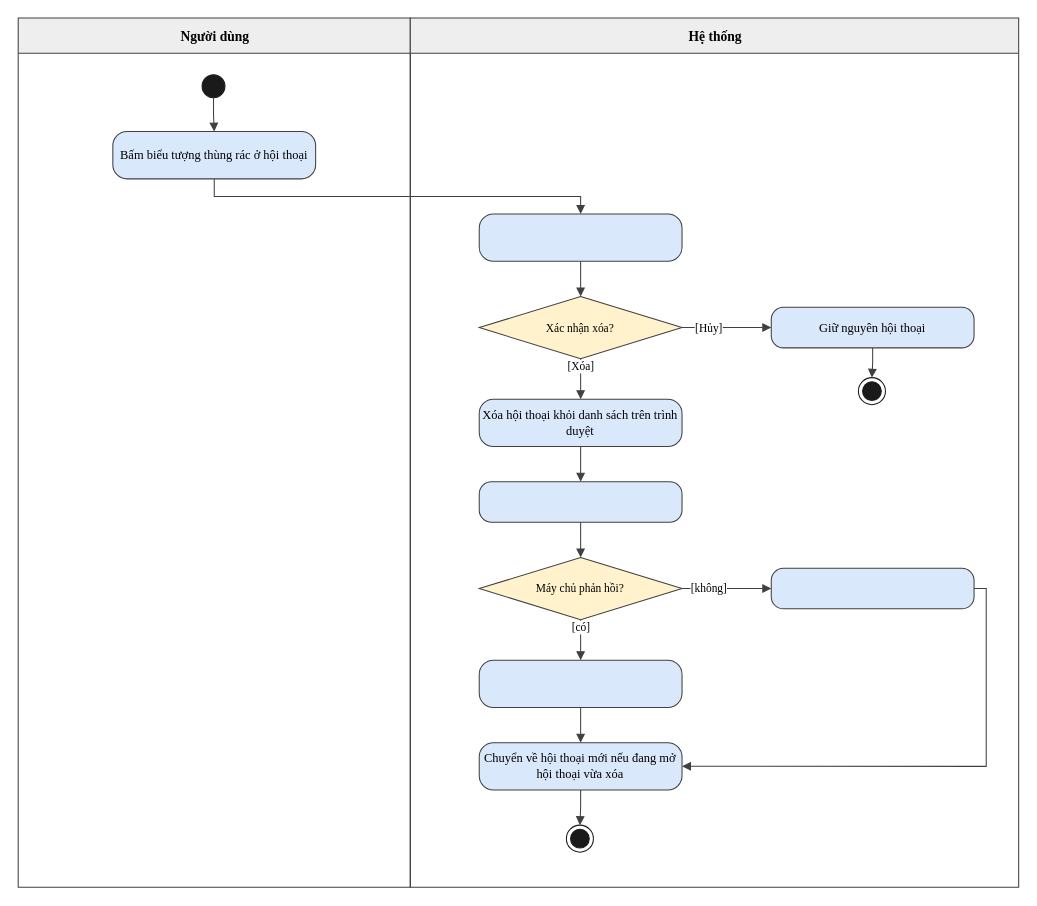
The diagram is 1037 pixels wide and 906 high, and some of its shapes have lost their labels. Here are the shapes that lost their labels. From the top down, the box of each, then its label:
(478, 213, 682, 261): Hiện xác nhận “Xóa hội thoại này?” tại dòng
(478, 481, 682, 522): Gửi yêu cầu xóa tới máy chủ
(770, 567, 974, 609): Vẫn giữ kết quả xóa trên trình duyệt
(478, 659, 682, 708): Xóa tin nhắn, ngữ cảnh và trạng thái làm rõ
